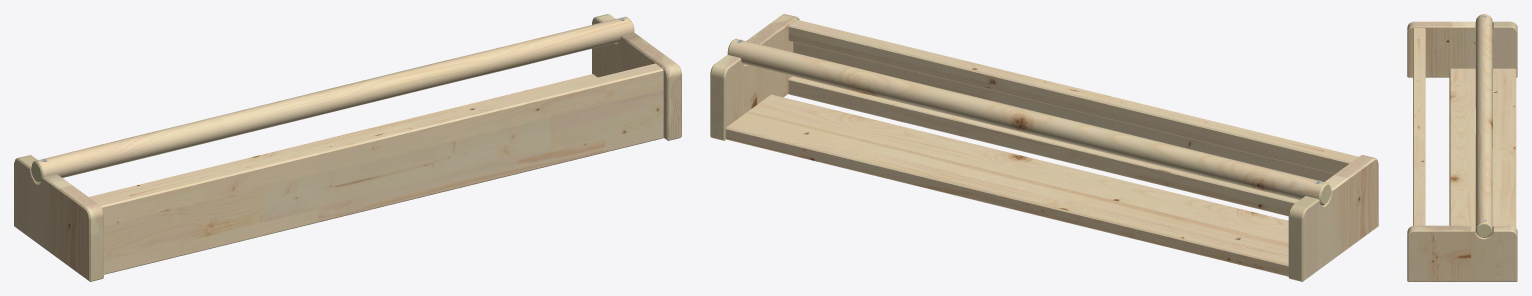
File: flisat_szafka_scienna_00290778.glb
3 views of the same model, side by side, from view 1: azimuth 30°, elevation 25°; view 2: azimuth 150°, elevation 25°; view 3: azimuth 270°, elevation 25° (orthographic). The views are drawn at different scales.
Visible parts, largest first — view 1: flisat_szafka_scienna_00290778; view 2: flisat_szafka_scienna_00290778; view 3: flisat_szafka_scienna_00290778.
Part boxes in pixels (x1=…): flisat_szafka_scienna_00290778: x1=14, y1=14, x2=681, y2=281; flisat_szafka_scienna_00290778: x1=710, y1=14, x2=1378, y2=281; flisat_szafka_scienna_00290778: x1=1407, y1=14, x2=1517, y2=281.
Bounding box in the file's own units: 0.704 × 0.0931 × 0.157.
1 material, 1 textured.
